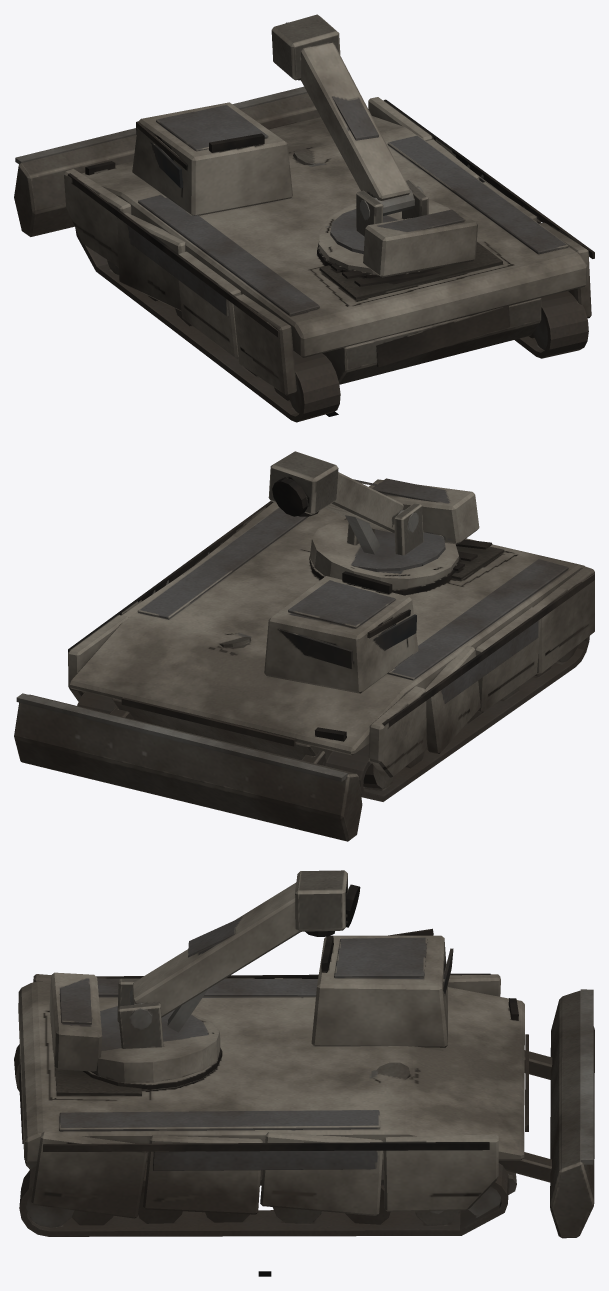
Rendered from ord_mason_wreck.fbx.
3 views of the same model, one above another, from view 1: azimuth 30°, elevation 25°; view 2: azimuth 150°, elevation 25°; view 3: azimuth 270°, elevation 25° (orthographic). The views are drawn at different scales.
Visible parts, largest first — view 1: base_bar, nano_bar, trackL_bar, trackR_bar; view 2: base_bar, nano_bar, trackL_bar, trackR_bar; view 3: base_bar, nano_bar, trackR_bar.
Part boxes in pixels (x1,y1,x2,y2): base_bar: (14, 86, 594, 395); nano_bar: (271, 14, 477, 278); trackL_bar: (75, 228, 340, 422); trackR_bar: (515, 291, 588, 358); base_bar: (14, 501, 594, 841); nano_bar: (268, 451, 479, 595); trackL_bar: (325, 636, 589, 801); trackR_bar: (77, 692, 116, 713); base_bar: (18, 928, 594, 1238); nano_bar: (49, 870, 360, 1090); trackR_bar: (19, 1161, 508, 1236).
Size of the model in its own units: 660 by 697 by 928.
2 materials, 2 textured.
